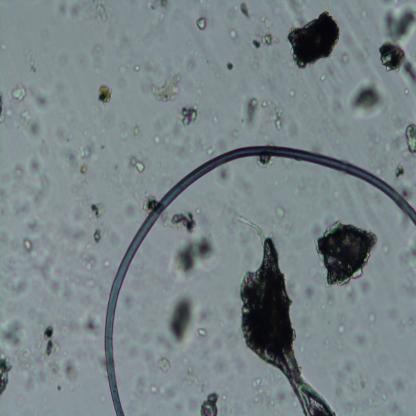Background material: (33, 224, 93, 310), (312, 217, 378, 288), (333, 359, 407, 416), (375, 1, 416, 92), (0, 141, 48, 210), (294, 11, 340, 70), (32, 325, 78, 381), (56, 126, 98, 179), (174, 230, 216, 282), (360, 122, 406, 165), (202, 337, 240, 388), (129, 322, 172, 362), (348, 76, 387, 118), (0, 252, 29, 306), (169, 291, 196, 349), (171, 126, 214, 157), (397, 236, 416, 303), (297, 284, 337, 315), (138, 379, 183, 404), (65, 176, 90, 220), (16, 348, 38, 398), (152, 67, 181, 104), (159, 210, 199, 235), (344, 275, 375, 307), (50, 0, 88, 26), (0, 314, 26, 352), (189, 300, 214, 337), (344, 319, 372, 352), (250, 374, 276, 408), (88, 199, 106, 246), (242, 93, 263, 132), (16, 105, 42, 136), (138, 56, 156, 98), (148, 118, 171, 149), (89, 39, 109, 73), (140, 0, 172, 21), (118, 119, 146, 143), (200, 389, 226, 414), (0, 349, 13, 399), (80, 309, 99, 342), (281, 0, 308, 23), (182, 42, 199, 76), (23, 44, 40, 78), (178, 354, 196, 386), (337, 311, 351, 352), (30, 84, 53, 108), (247, 32, 280, 48), (92, 343, 108, 376), (212, 164, 234, 187), (178, 104, 198, 127), (128, 153, 146, 176), (404, 124, 416, 158), (12, 82, 28, 106), (18, 232, 34, 256), (96, 84, 113, 105), (276, 206, 290, 230), (124, 286, 137, 311), (142, 195, 160, 213), (256, 155, 274, 173), (114, 61, 126, 88), (258, 11, 275, 30), (246, 50, 260, 71), (274, 106, 285, 131), (240, 1, 253, 22), (155, 355, 170, 373), (96, 3, 109, 23), (392, 161, 406, 178), (379, 241, 392, 259), (283, 82, 296, 100), (195, 14, 208, 32), (192, 82, 206, 98), (225, 26, 238, 42), (0, 90, 6, 124), (101, 251, 111, 269), (342, 54, 352, 67), (368, 309, 377, 323), (212, 111, 219, 128), (96, 392, 106, 403), (132, 62, 140, 74), (224, 62, 233, 71), (318, 93, 326, 103), (319, 73, 326, 83), (403, 88, 409, 96)
Cellulose filter fibre: (238, 213, 337, 414)
Microfibre: (102, 145, 416, 415)
